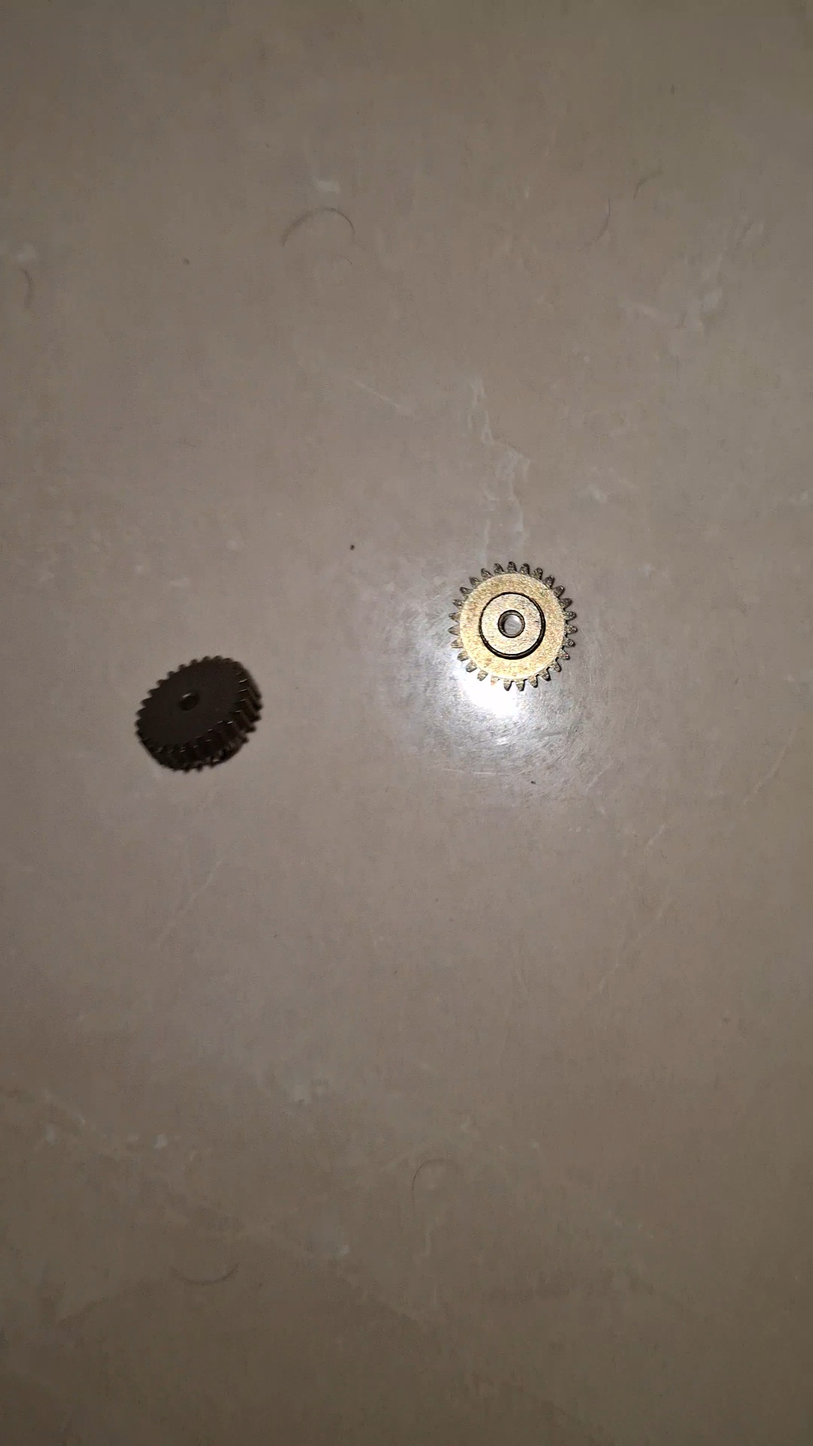spur gear: (449, 562, 577, 689), (137, 657, 260, 770)
